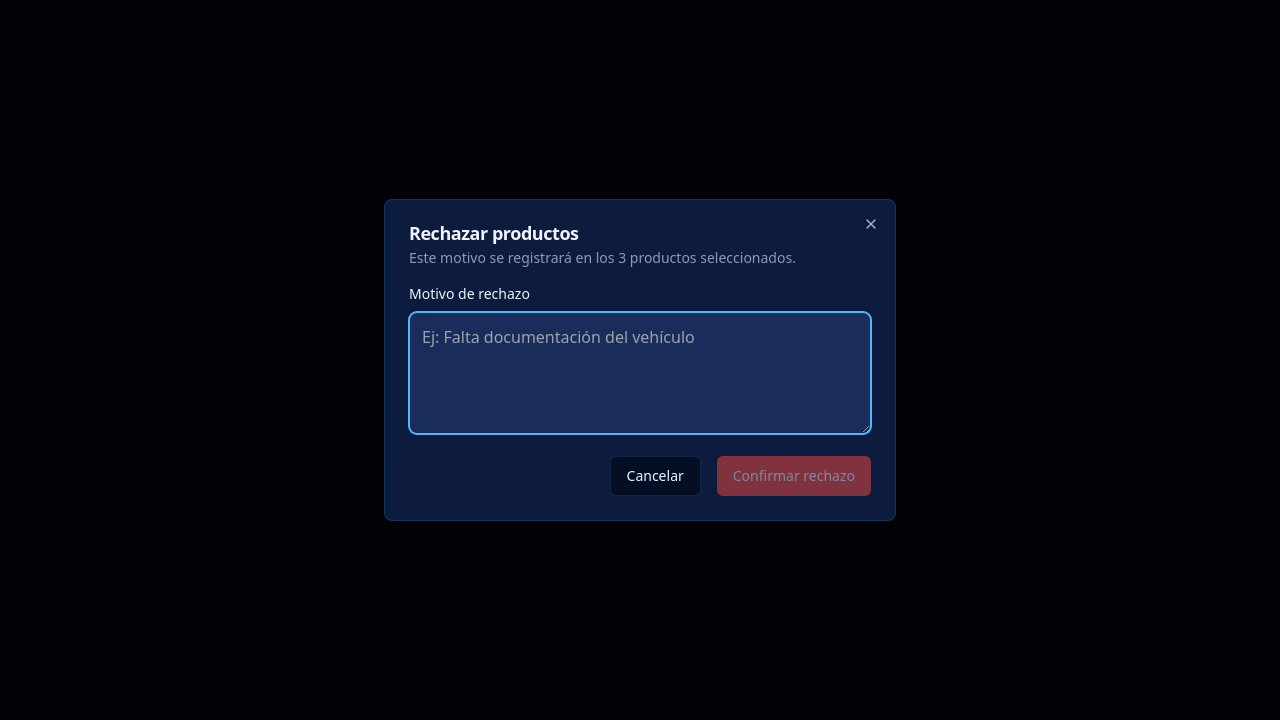
Test case: RejectConfirmDialog › shows toast error when trying to confirm with empty reason
// Even though button should be disabled, test the validation logic
Type "test" into the text box labelled "Motivo de rechazo" at [640, 373], box [409,312,871,434]
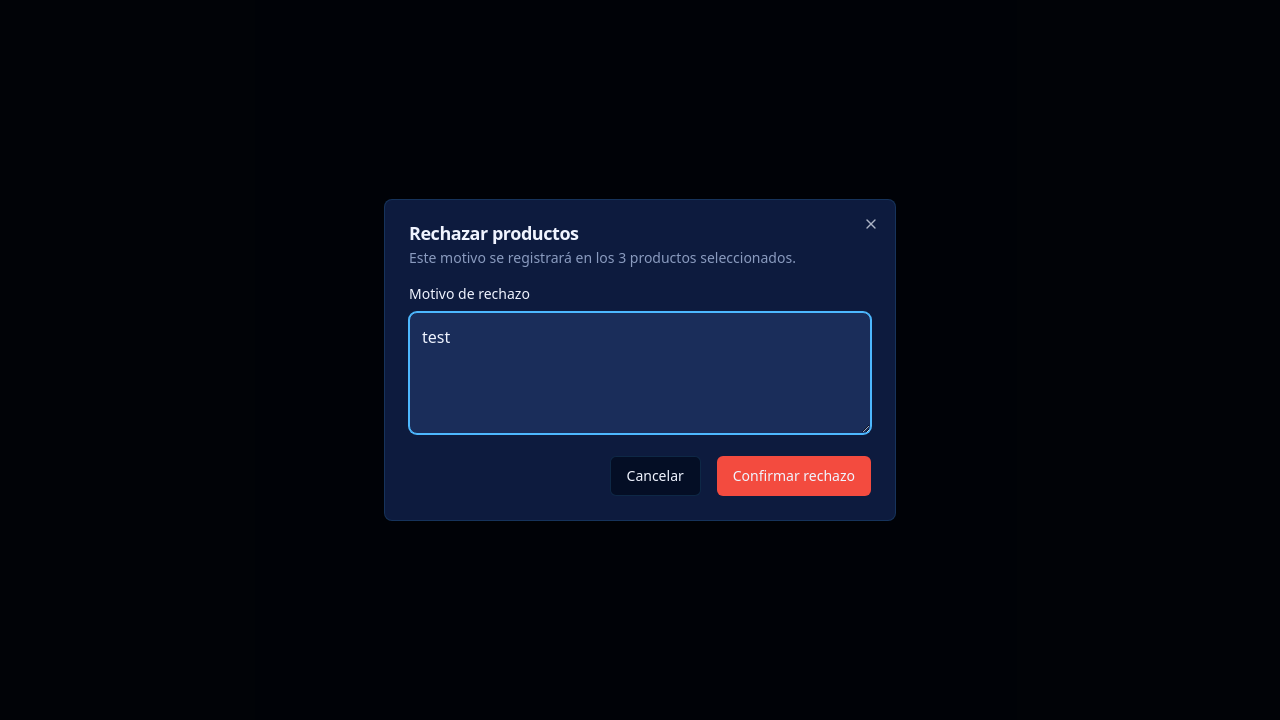
Clear the text box labelled "Motivo de rechazo" at [640, 373], box [409,312,871,434]
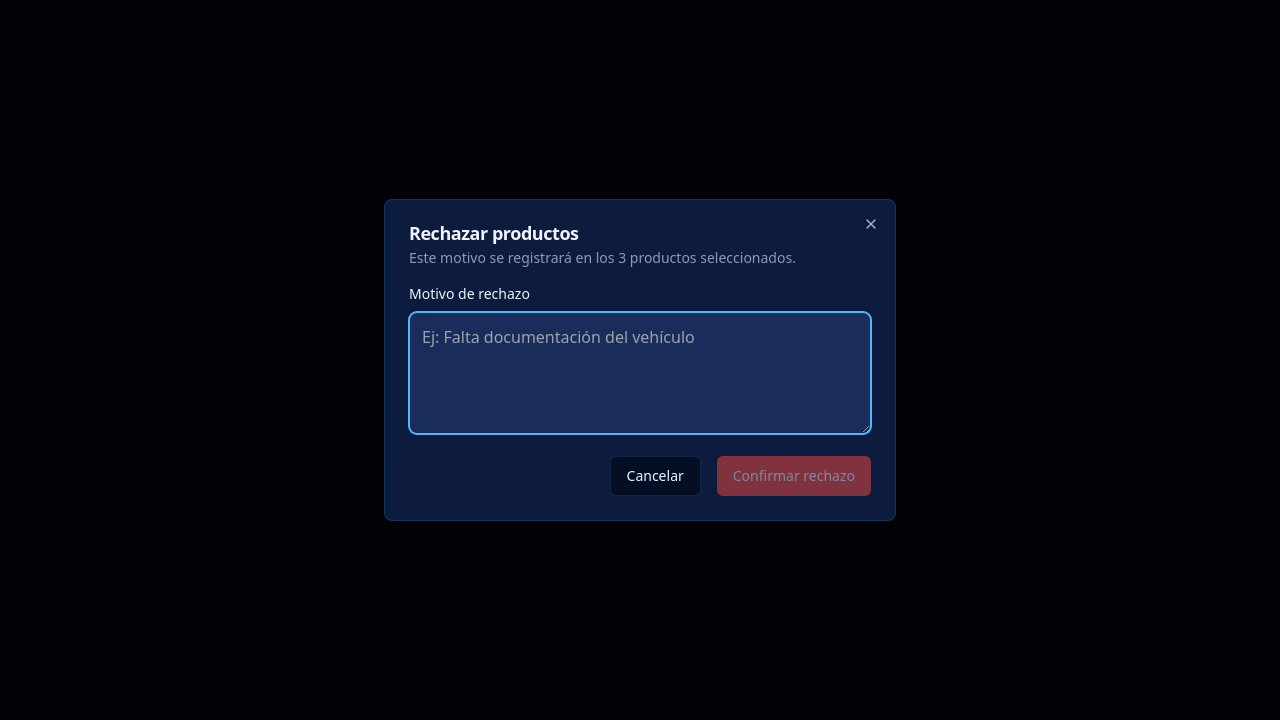
Expected: the button "Confirmar rechazo" is disabled, [717,456,871,496]
